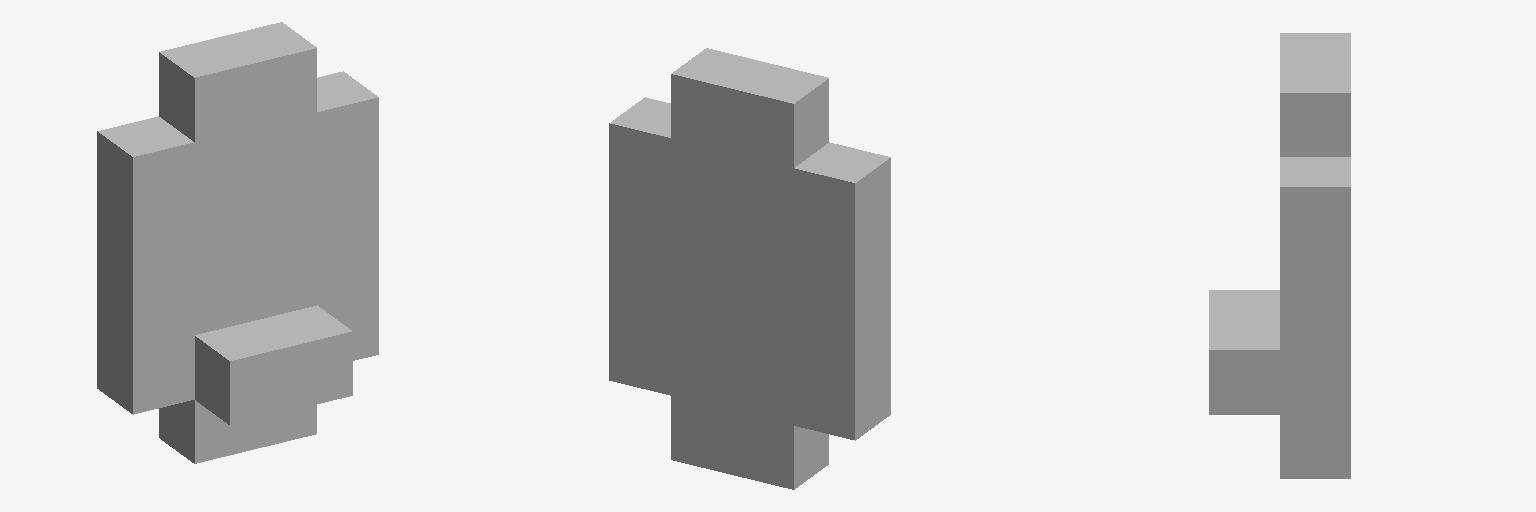
File: switchOnBlue.obj
3 renders of one model, left to right at view 1: azimuth 30°, elevation 25°; view 2: azimuth 150°, elevation 25°; view 3: azimuth 270°, elevation 25°, orthographic.
Parts seen in each view (by area): view 1: object 1; view 2: object 1; view 3: object 1.
Boxes of the visible parts, box(x1,y1,x2,y2) form: object 1: box(97, 22, 378, 463); object 1: box(609, 48, 890, 489); object 1: box(1209, 33, 1350, 478).
Size of the model in its own units: 0.4 by 0.6 by 0.2.